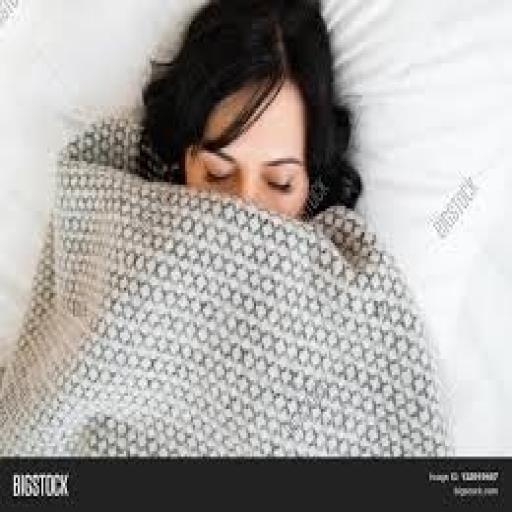sleeping: (0, 0, 457, 459)
